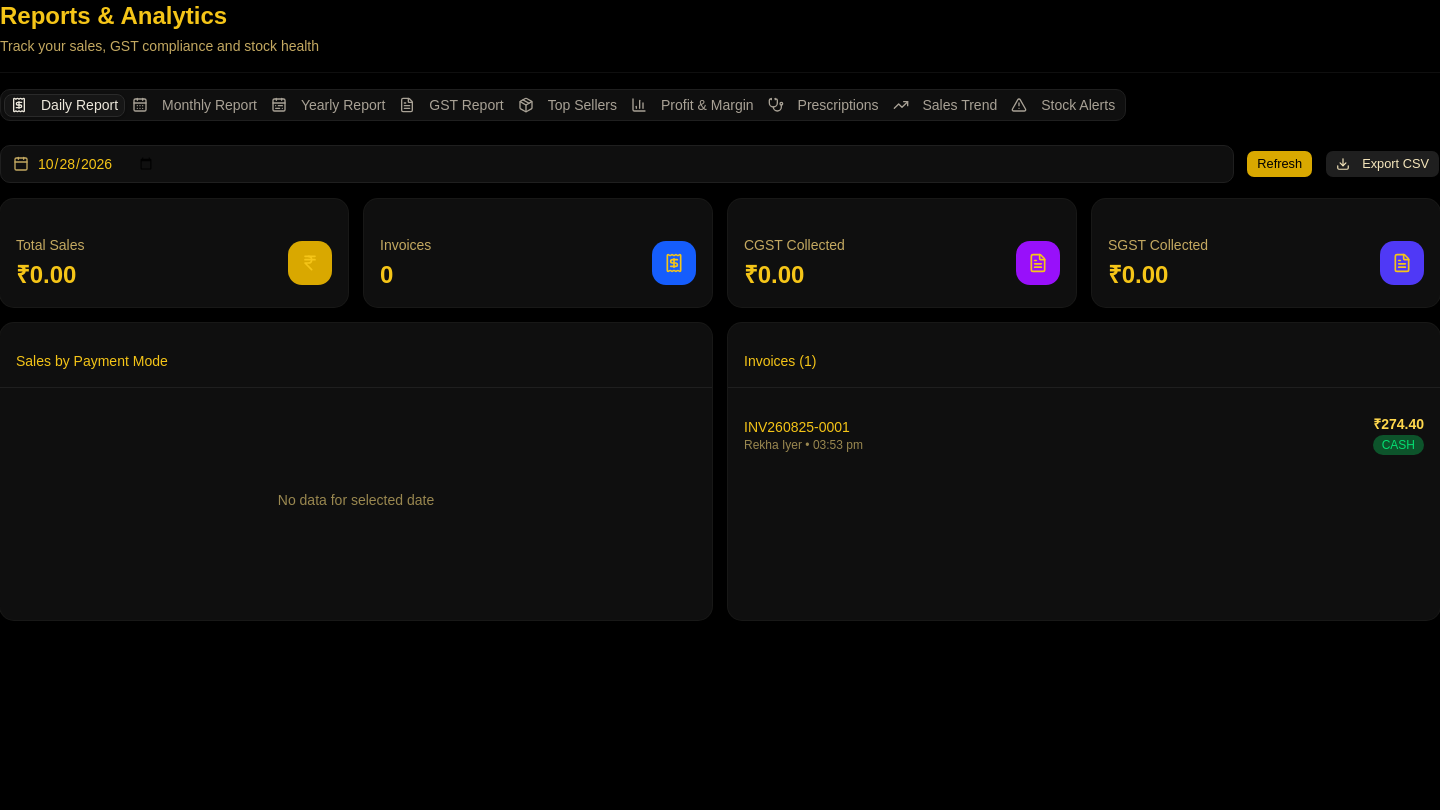
Reports — nothing to return › says why on an invoice returned in full
Click the button with aria-label "Invoice INV260825-0001".
click(797, 426)  # box [728,404,1439,465]
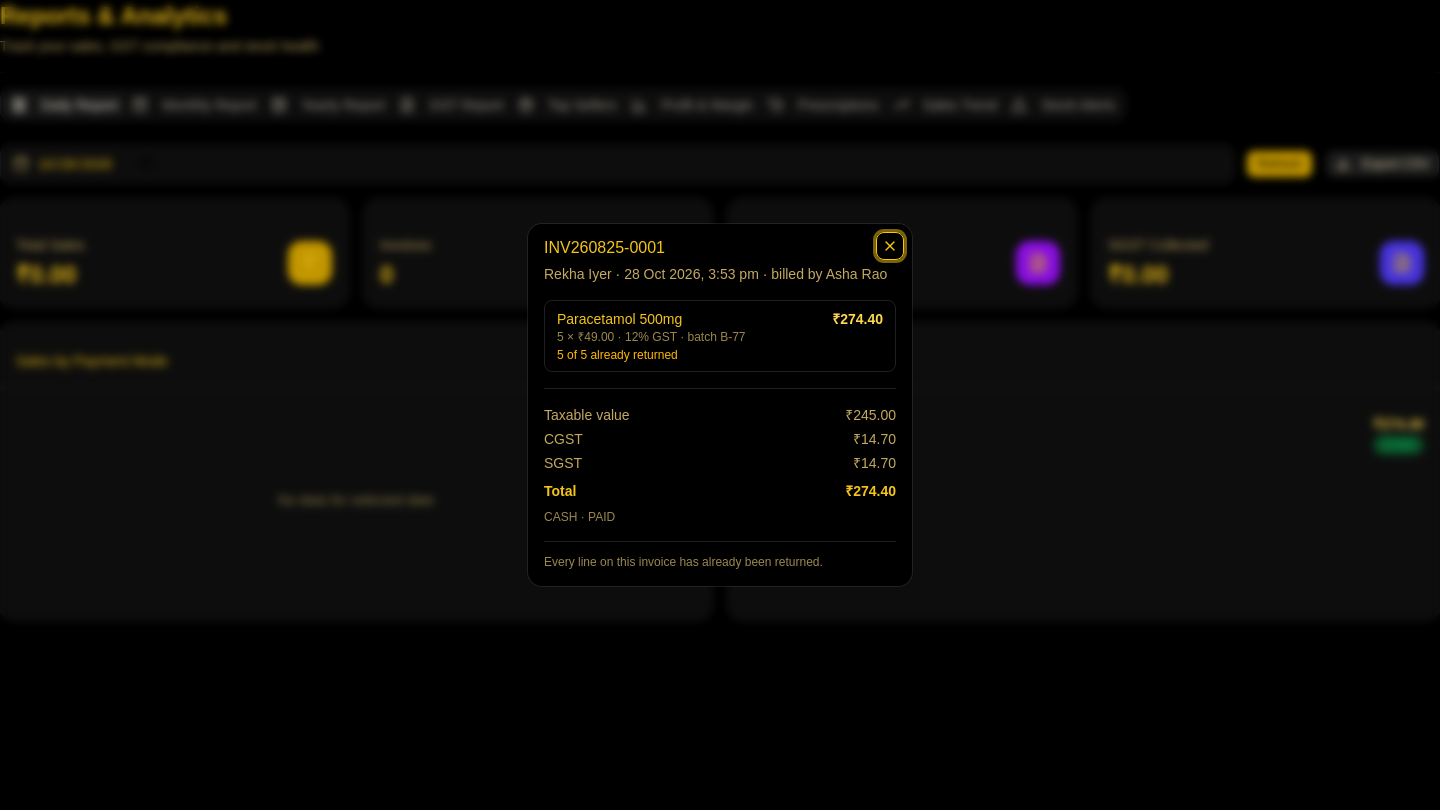
Expected: the text "Every line on this invoice has already been returned." is shown, [544,541,896,570]
